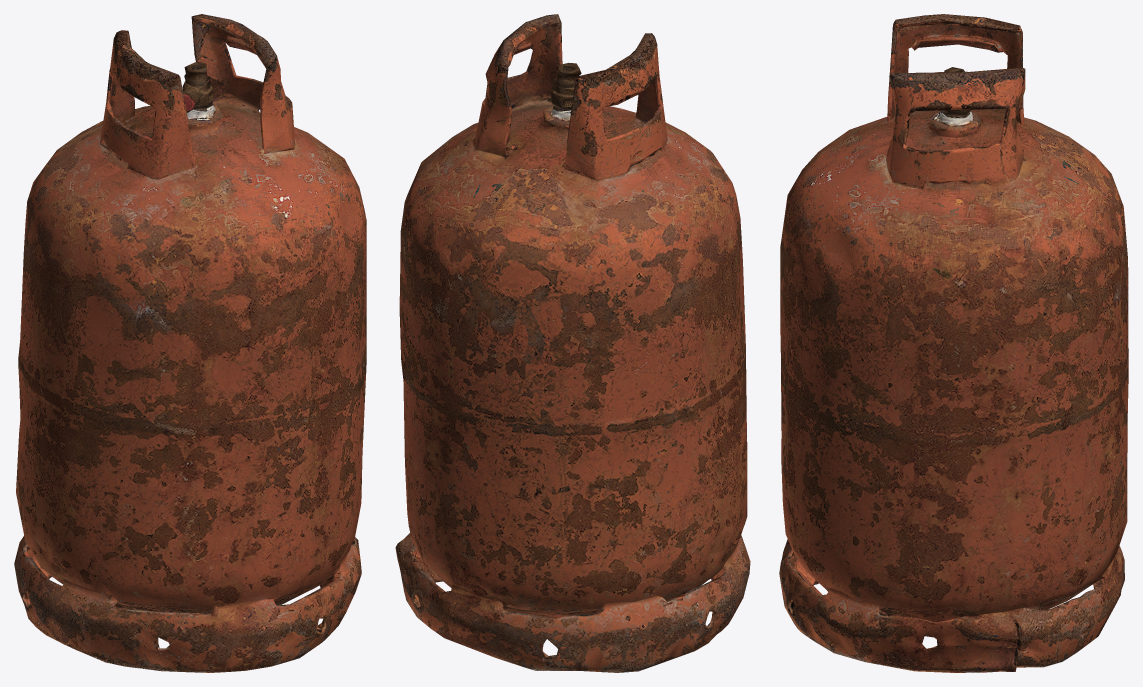
File: SM_Ind_Con_Gas_Metal_Rusty_01.gltf
The picture shows the model from 3 angles, left to right: view 1: azimuth 30°, elevation 25°; view 2: azimuth 150°, elevation 25°; view 3: azimuth 270°, elevation 25°; orthographic projection.
Parts seen in each view (by area): view 1: SM_Ind_Con_Gas_Metal_Rusty_01; view 2: SM_Ind_Con_Gas_Metal_Rusty_01; view 3: SM_Ind_Con_Gas_Metal_Rusty_01.
Part boxes in pixels (bbox=[...]): SM_Ind_Con_Gas_Metal_Rusty_01: bbox=[14, 14, 366, 672]; SM_Ind_Con_Gas_Metal_Rusty_01: bbox=[395, 14, 750, 672]; SM_Ind_Con_Gas_Metal_Rusty_01: bbox=[779, 14, 1128, 672].
Bounding box in the file's own units: 0.4937 × 0.8745 × 0.4839.
Materials: 1 (1 with a texture image).
